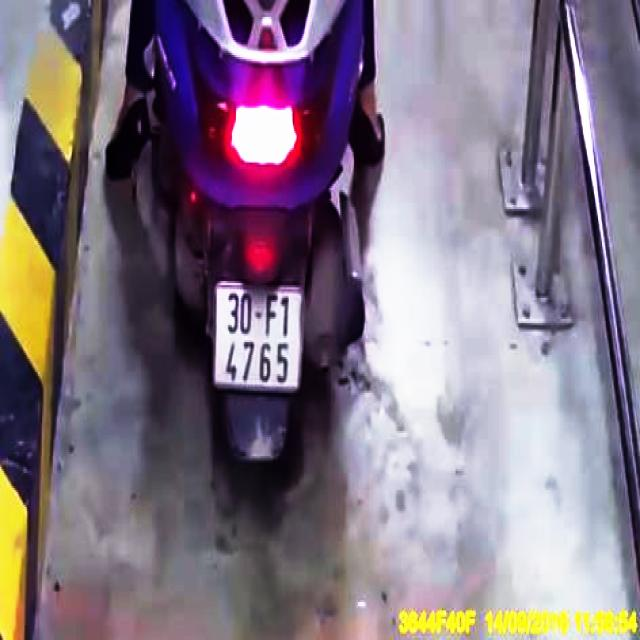license_plate: (216, 283, 304, 393)
